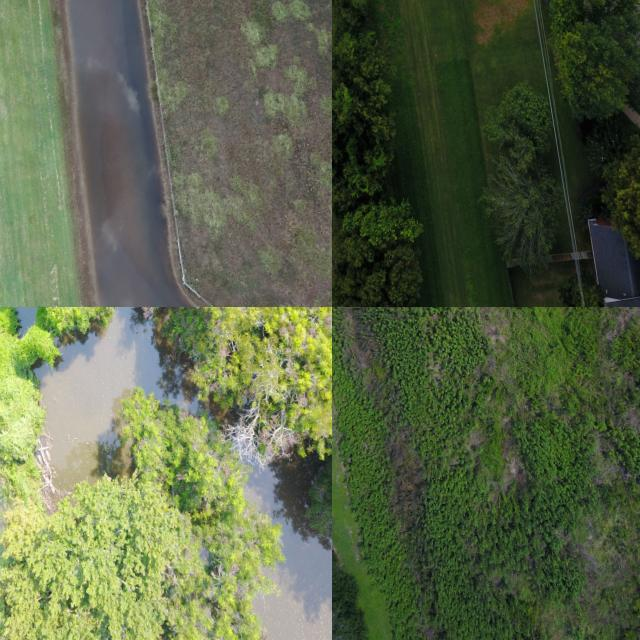fire: (67, 0, 192, 307), (35, 307, 173, 493), (246, 456, 332, 640), (15, 307, 36, 336)
